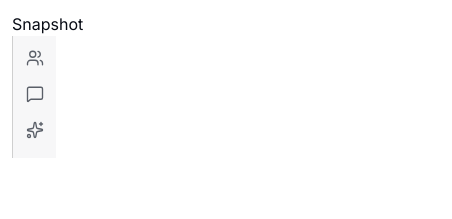
Test: side panel › brings the conversation back after a remount, as a refresh would
Click the button named "assistant": {"x": 34, "y": 130} [18,114,50,146]
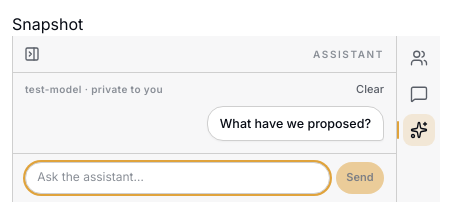
expect the text "What have we proposed?" is shown: met, box [207,106,384,141]
